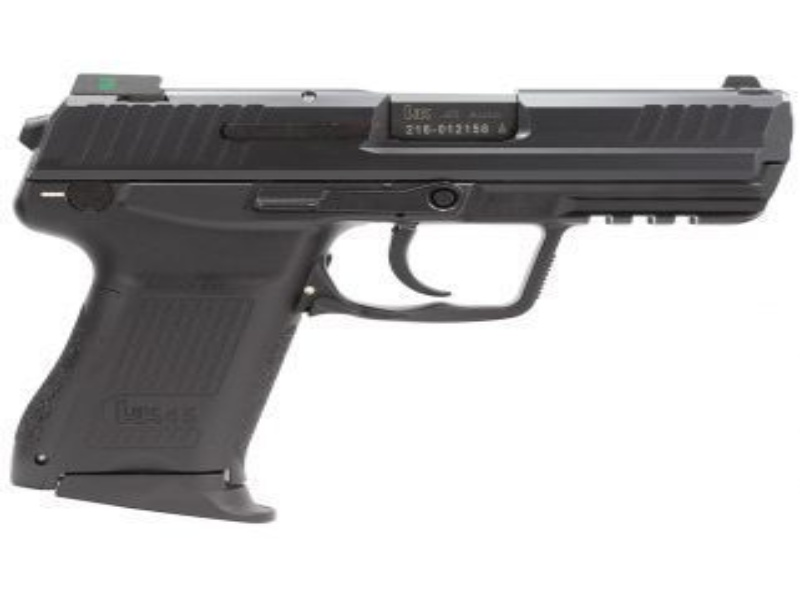gun: (8, 33, 796, 507)
